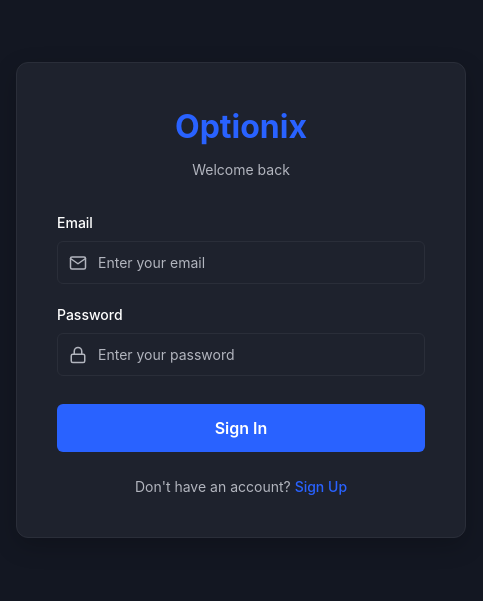
Test case: Login Integration Tests › switches between login and register modes
What coordinates should you click on to do the following:
click the link "Sign Up"
I would click on:
 (321, 486)
Its box is [295,478,347,495].
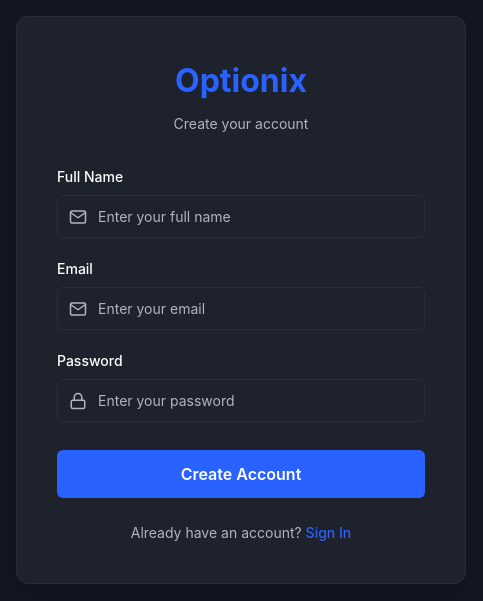
Now the button "Create Account" is shown, box [57,450,425,498]
Now the field labelled "Full Name" is shown, box [57,195,425,238]
